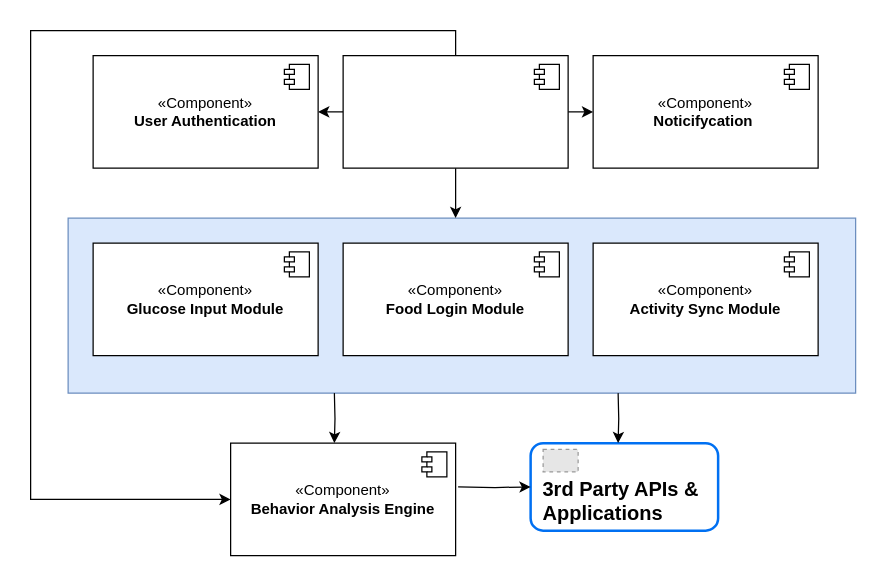
Image size: 878x578. Some labels were removed from this diagram. Grey dashed boxes stand in for pictures. The box of each missing label's shape, as (x1, y1, x2, y2) in pixels:
Data Input: (67, 217, 856, 393)
«Component» Mobile Client « UI »: (342, 54, 568, 168)
